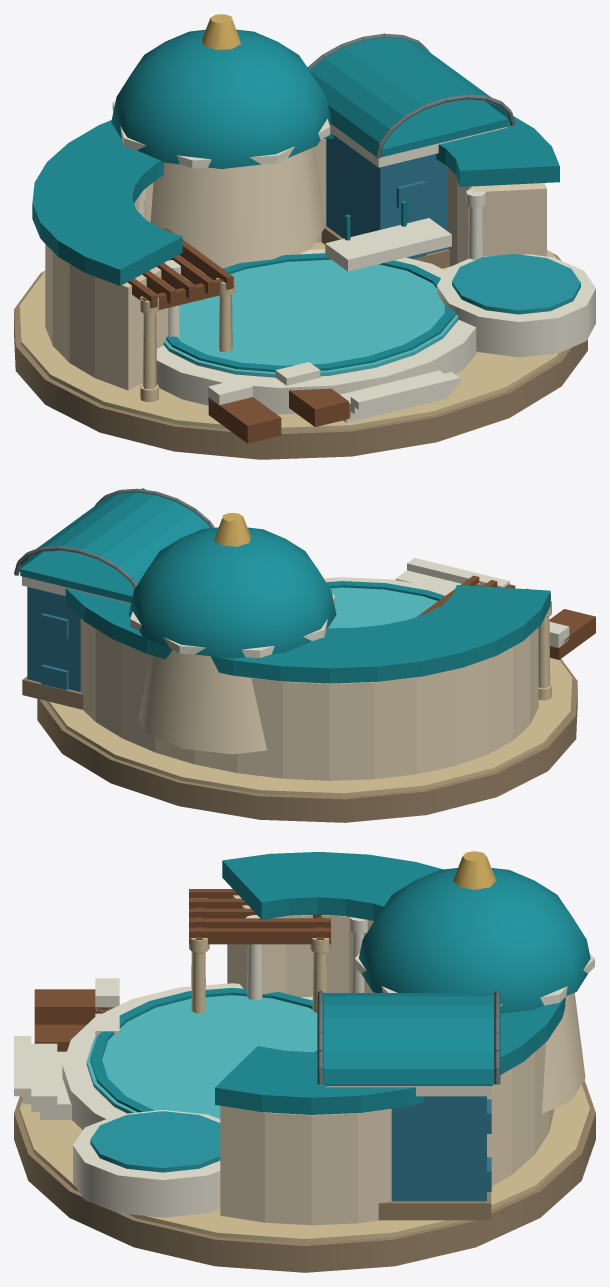
File: recovery-center-lv4.glb
3 views of the same model, one above another, from view 1: azimuth 30°, elevation 25°; view 2: azimuth 150°, elevation 25°; view 3: azimuth 270°, elevation 25° (orthographic). The views are drawn at different scales.
Visible parts, largest first — view 1: recovery_dome_aqua, water_pool, crescent_roof_aqua, crescent_bathhouse_cream, foundation_stoneDark, recovery_pavilion_cream, foundation_sand, rehabilitation_roof_aqua, pool_terrace_white, rehabilitation_hall_glass, raised_pool_white, side_water_water (+15 smaller); view 2: crescent_bathhouse_cream, recovery_dome_aqua, crescent_roof_aqua, foundation_stoneDark, foundation_sand, recovery_pavilion_cream, rehabilitation_roof_aqua, rehabilitation_hall_glass, rehabilitation_hall_roof_aqua, water_pool, pool_steps_white, rehabilitation_roof_ribs_iron (+11 smaller); view 3: crescent_bathhouse_cream, recovery_dome_aqua, crescent_roof_aqua, foundation_stoneDark, water_pool, rehabilitation_roof_aqua, foundation_sand, rehabilitation_hall_glass, raised_pool_white, side_water_water, recovery_pergola_wood, pool_terrace_white (+12 smaller).
Boxes of the visible parts, x1,y1,x2,y2 form: recovery_dome_aqua: [111, 29, 331, 168]; water_pool: [163, 259, 458, 377]; crescent_roof_aqua: [32, 116, 559, 285]; crescent_bathhouse_cream: [45, 139, 546, 390]; foundation_stoneDark: [14, 253, 587, 459]; recovery_pavilion_cream: [150, 147, 325, 268]; foundation_sand: [19, 242, 562, 431]; rehabilitation_roof_aqua: [310, 37, 509, 155]; pool_terrace_white: [156, 249, 477, 414]; rehabilitation_hall_glass: [326, 135, 447, 253]; raised_pool_white: [437, 254, 595, 357]; side_water_water: [452, 254, 580, 314]; crescent_bathhouse_cream: [80, 618, 538, 780]; recovery_dome_aqua: [128, 527, 336, 658]; crescent_roof_aqua: [64, 488, 550, 683]; foundation_stoneDark: [37, 659, 577, 822]; foundation_sand: [46, 658, 572, 796]; recovery_pavilion_cream: [138, 650, 266, 754]; rehabilitation_roof_aqua: [19, 492, 210, 584]; rehabilitation_hall_glass: [27, 587, 80, 691]; rehabilitation_hall_roof_aqua: [20, 551, 134, 602]; water_pool: [328, 587, 437, 628]; pool_steps_white: [395, 558, 509, 591]; rehabilitation_roof_ribs_iron: [14, 488, 214, 588]; crescent_bathhouse_cream: [220, 888, 554, 1225]; recovery_dome_aqua: [358, 868, 590, 1013]; crescent_roof_aqua: [215, 851, 565, 1114]; foundation_stoneDark: [14, 1080, 595, 1272]; water_pool: [86, 995, 317, 1118]; rehabilitation_roof_aqua: [323, 993, 493, 1084]; foundation_sand: [19, 983, 590, 1243]; rehabilitation_hall_glass: [391, 1096, 486, 1201]; raised_pool_white: [73, 1110, 220, 1217]; side_water_water: [90, 1111, 220, 1172]; recovery_pergola_wood: [189, 889, 330, 953]; pool_terrace_white: [62, 983, 312, 1129].
Size of the model in its own units: 1 by 0.4959 by 0.9231.
